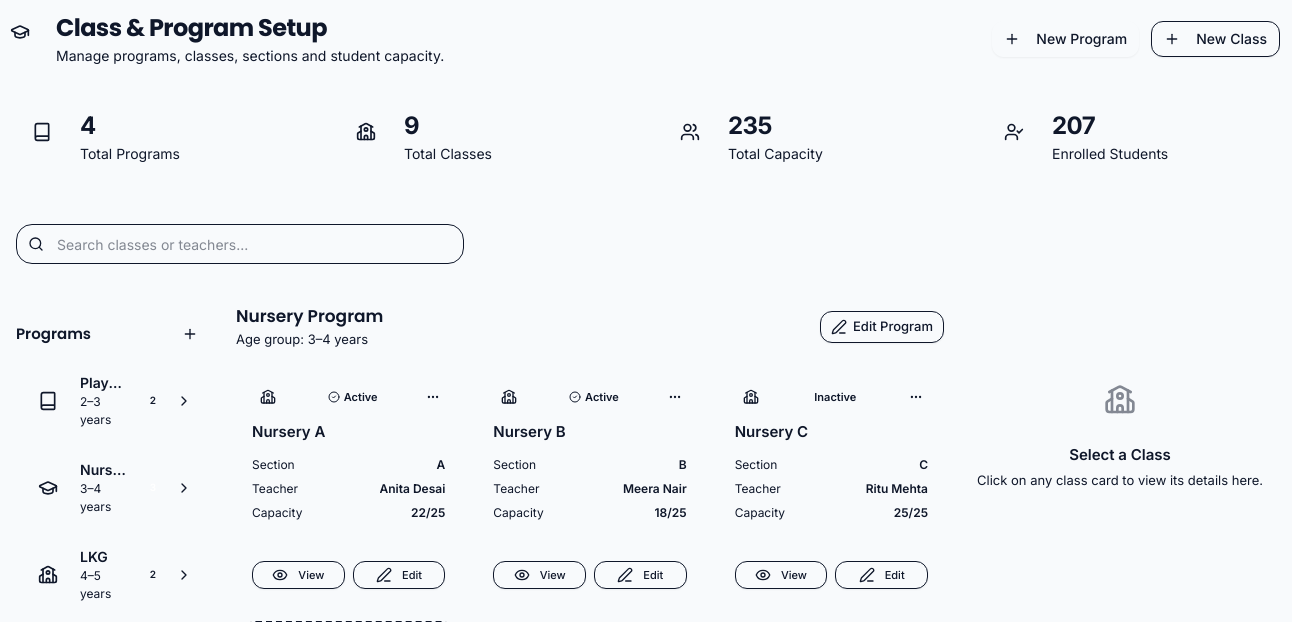
Test: SetupClassesPage › switches program when clicking a different program
expect the heading "Nursery Program" is shown: met, box [236,304,383,330]
Note: Click Playgroup
What coordinates should you click on to do the following:
click the text "Playgroup"
I would click on:
 (105, 382)
Its box is [80,372,130,393].
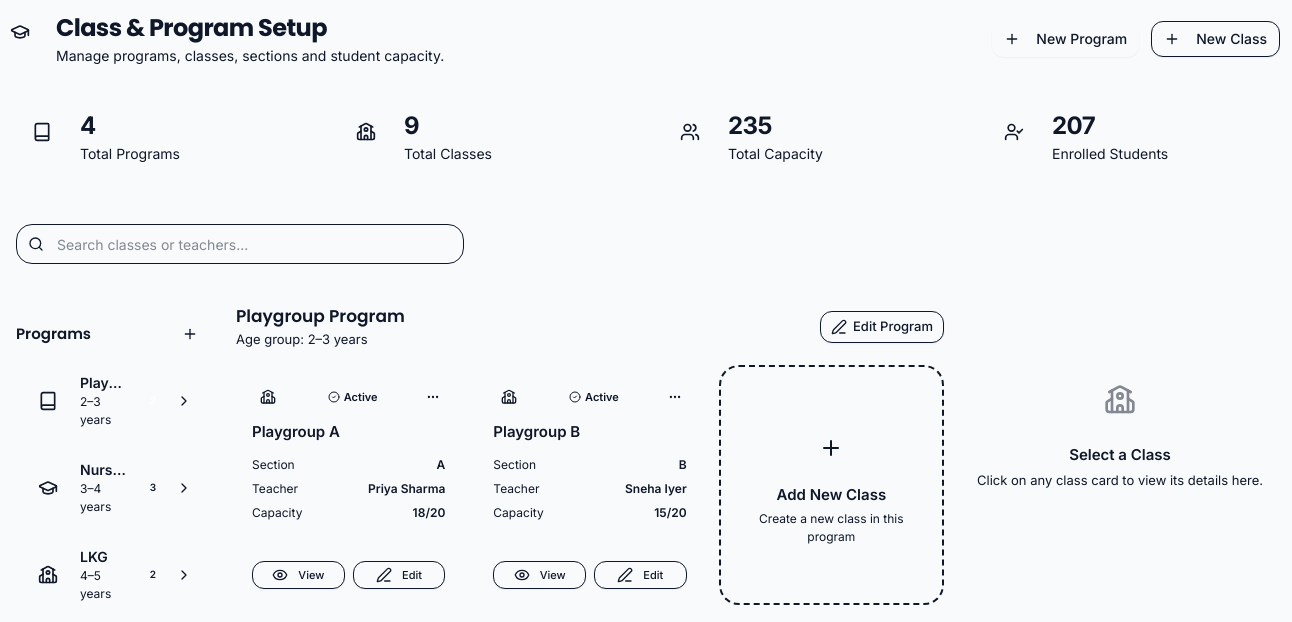
expect the heading "Playgroup Program" is shown: met, box [236,304,405,330]
